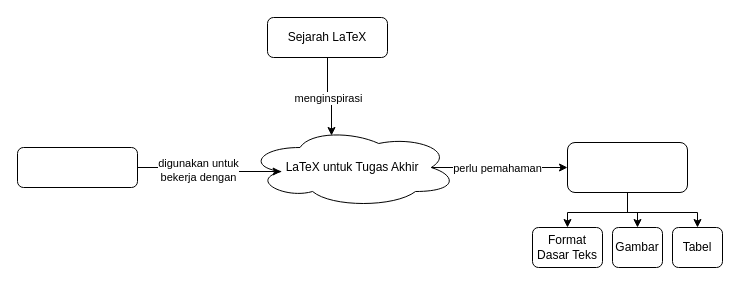
The diagram is 740 pixels wide and 285 high, and some of its shapes have lost their labels. The centre of each missing label's shape, as x and y in pixels:
Kompiler dan IDE LaTeX: (77,167)
Penggunaan Dasar LaTeX: (627,167)
